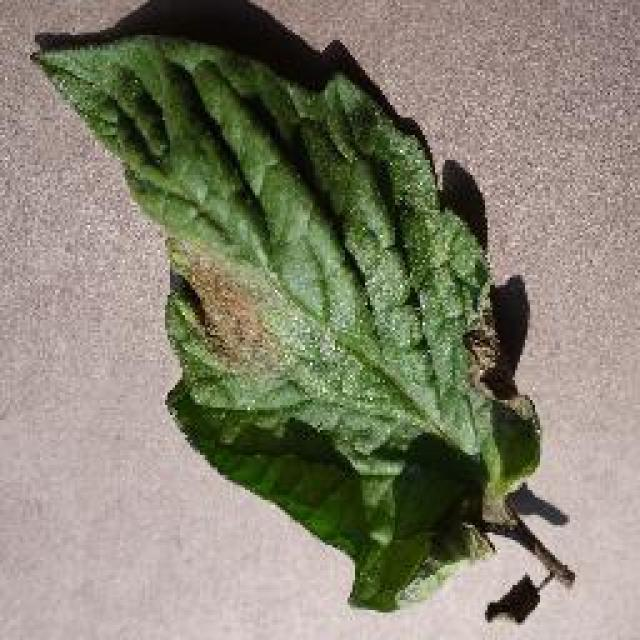Tomato Late Blight: (194, 98, 498, 455)
